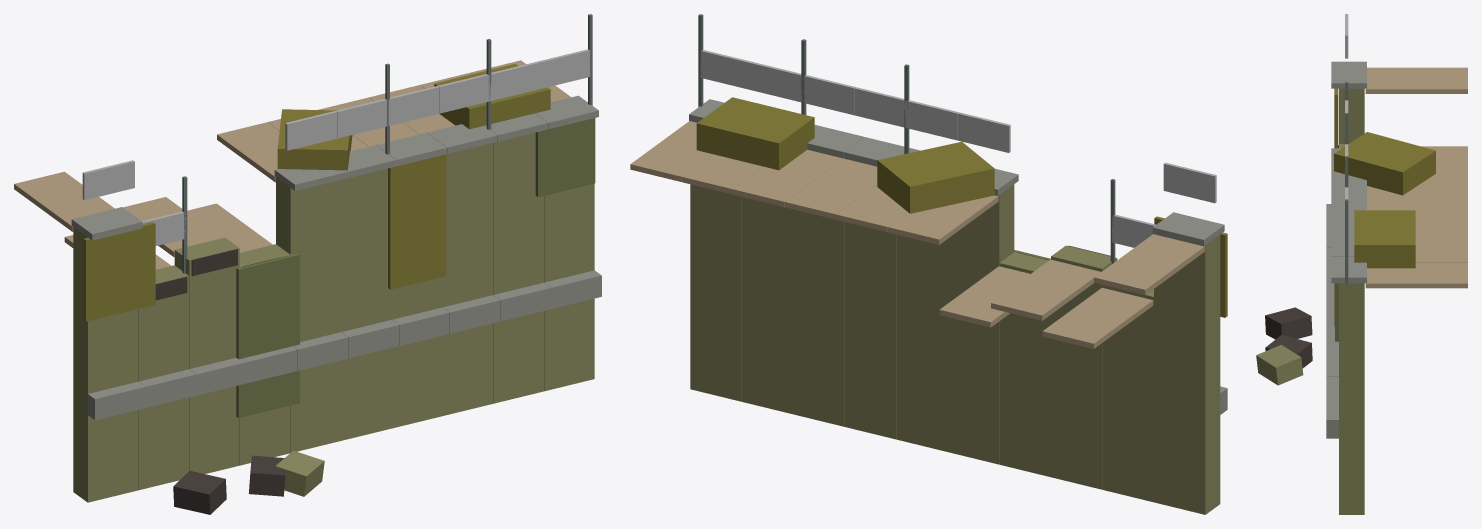
File: SM_MuroRampa_v2_Hiedra_e2_MuyDanado_LOD1.fbx
3 views of the same model, side by side, from view 1: azimuth 30°, elevation 25°; view 2: azimuth 150°, elevation 25°; view 3: azimuth 270°, elevation 25° (orthographic). The views are drawn at different scales.
Visible parts, largest first — view 1: SM_muro_rampa_v10_LOD1; view 2: SM_muro_rampa_v10_LOD1; view 3: SM_muro_rampa_v10_LOD1.
Part boxes in pixels (left/top/right/bottom): SM_muro_rampa_v10_LOD1: left=14, top=14, right=601, bottom=514; SM_muro_rampa_v10_LOD1: left=630, top=14, right=1227, bottom=514; SM_muro_rampa_v10_LOD1: left=1256, top=14, right=1467, bottom=514.
Bounding box in the file's own units: 10.12 × 6.83 × 4.14.
